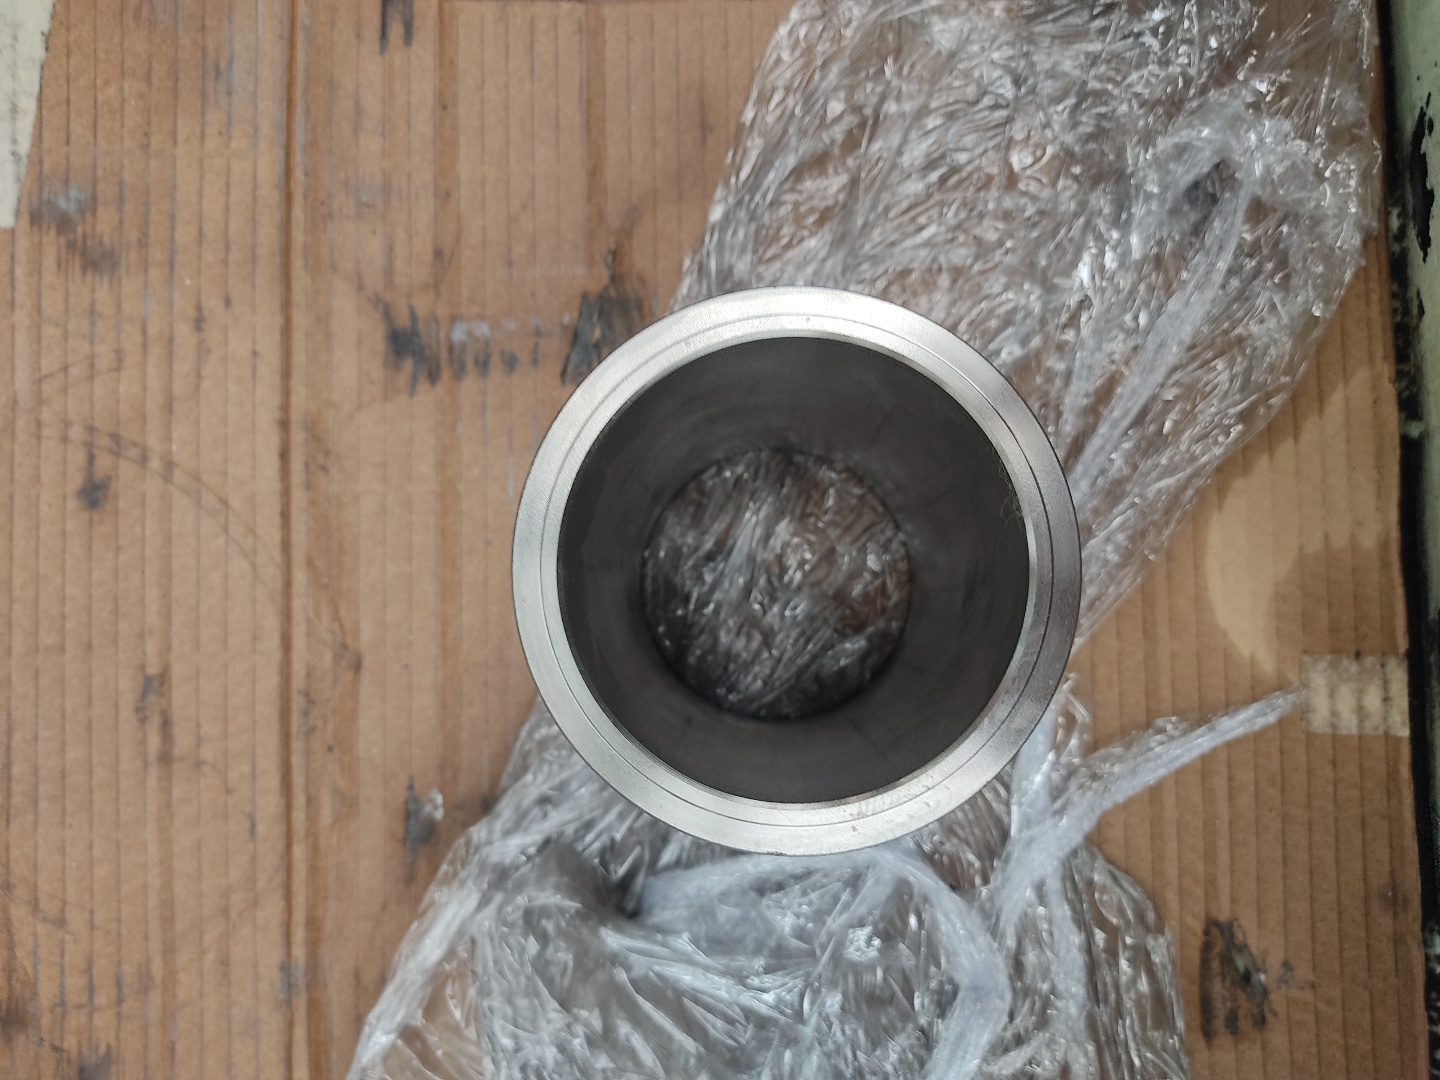cylinder: (506, 281, 1089, 863)
